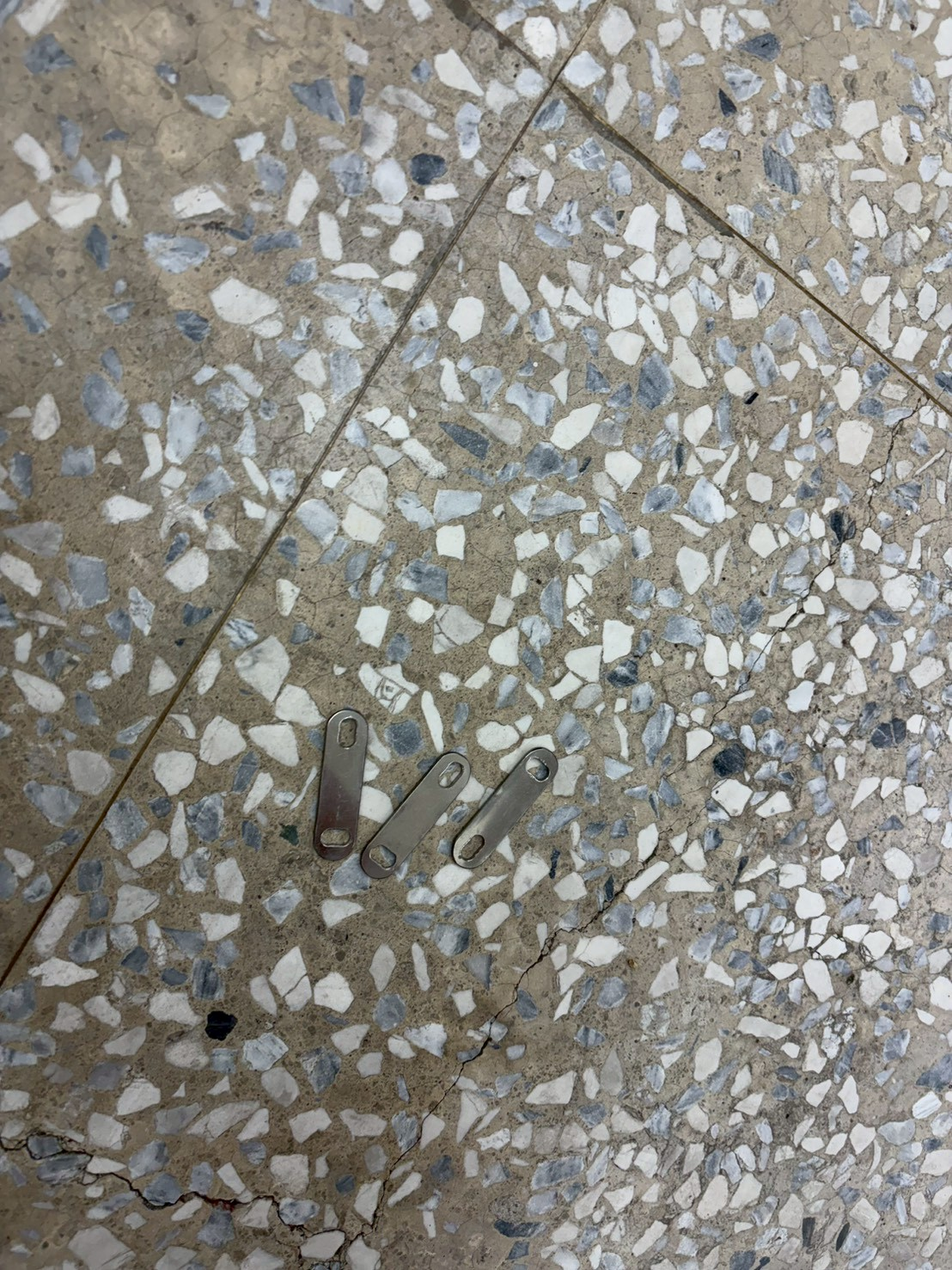Fe: (445, 736, 494, 891), (529, 736, 578, 890), (324, 703, 373, 857), (512, 752, 517, 754)
